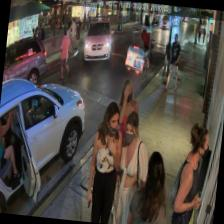person: (84, 99, 126, 224), (109, 109, 154, 224), (169, 121, 211, 224), (108, 78, 143, 188), (125, 149, 172, 224), (164, 32, 184, 92)
